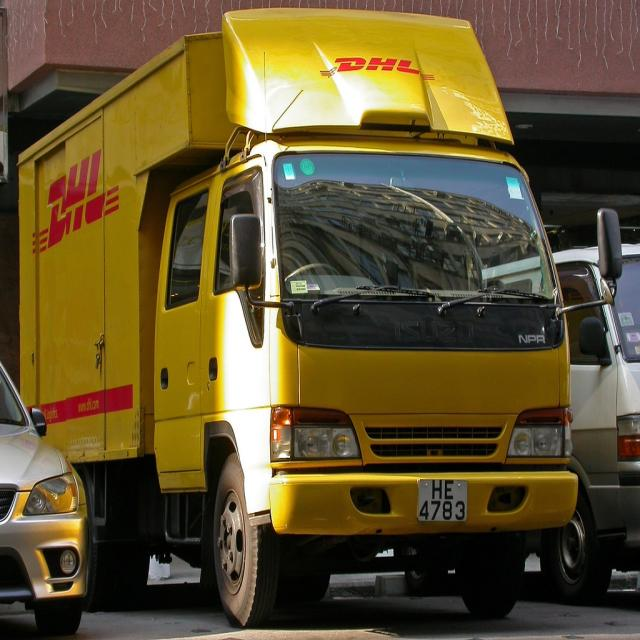dhl: (27, 145, 127, 259), (317, 53, 440, 87)
